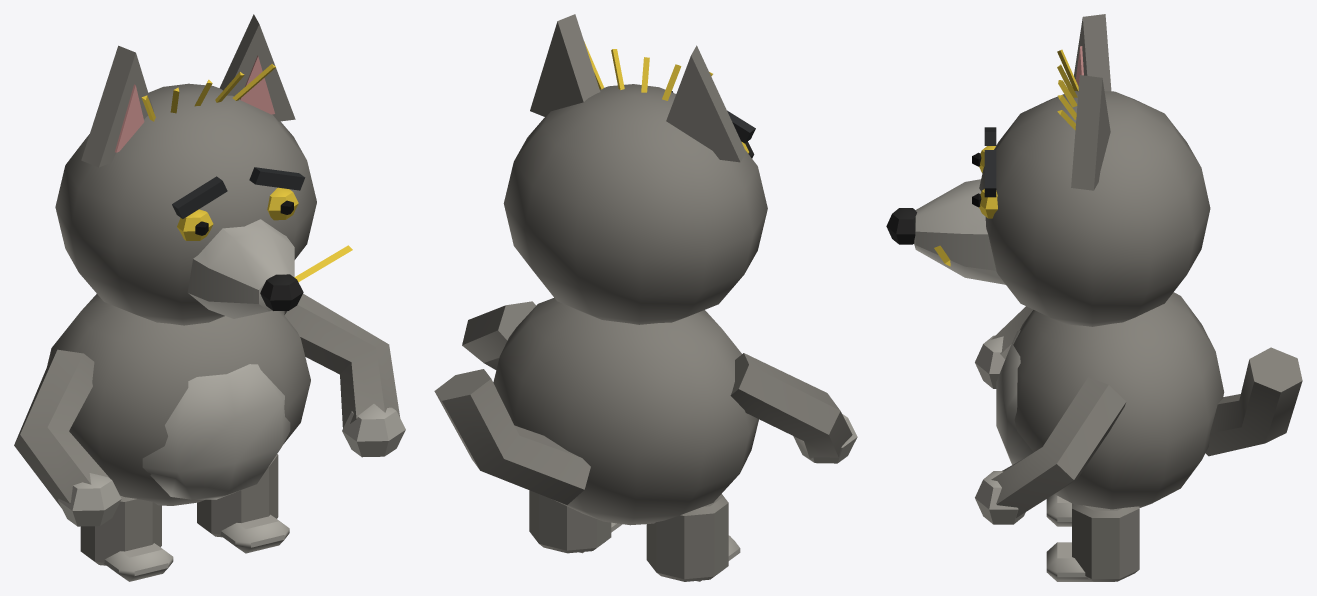
File: 176_louveteau.fbx
3 views of the same model, side by side, from view 1: azimuth 30°, elevation 25°; view 2: azimuth 150°, elevation 25°; view 3: azimuth 270°, elevation 25° (orthographic). The views are drawn at different scales.
Parts seen in each view (by area): view 1: Corps; view 2: Corps; view 3: Corps.
Boxes of the visible parts, <box> form: Corps: <box>14,14,405,581</box>; Corps: <box>434,14,857,581</box>; Corps: <box>886,14,1302,581</box>.
Size of the model in its own units: 0.84 by 1.12 by 0.84.
Materials: 1 (1 with a texture image).
